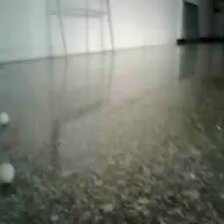w: (1, 162, 15, 182), (1, 113, 9, 125)
